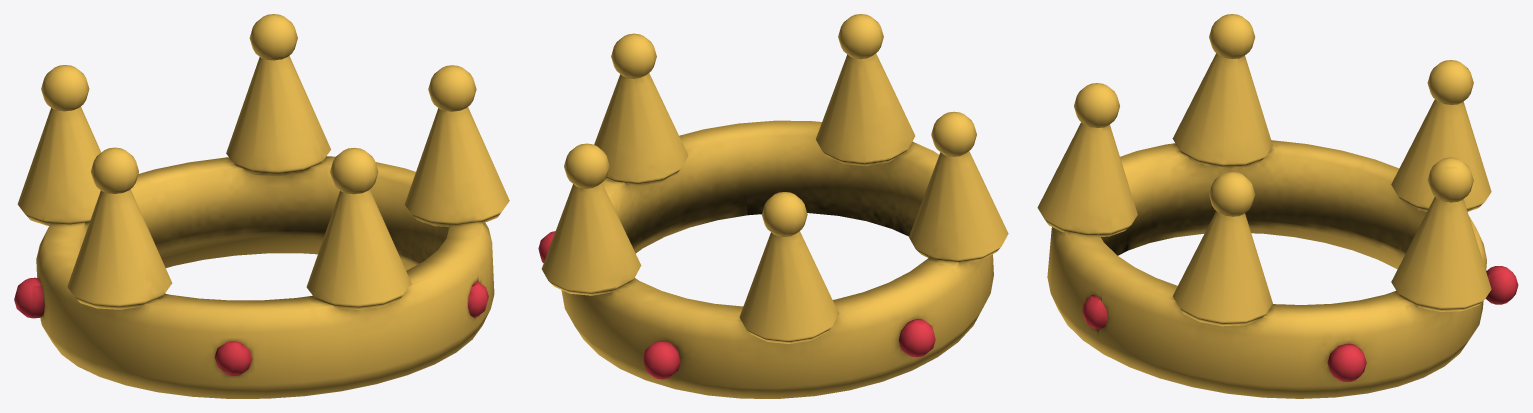
The model's file is hat_crown.glb.
3 views of the same model, side by side, from view 1: azimuth 30°, elevation 25°; view 2: azimuth 150°, elevation 25°; view 3: azimuth 270°, elevation 25° (orthographic). The views are drawn at different scales.
Visible parts, largest first — view 1: hat_crown; view 2: hat_crown; view 3: hat_crown.
Boxes of the visible parts, x1,y1,x2,y2 form: hat_crown: [14, 14, 509, 398]; hat_crown: [538, 14, 1008, 398]; hat_crown: [1037, 14, 1518, 398].
Bounding box in the file's own units: 0.5315 × 0.2961 × 0.5395.
2 materials, 2 textured.
